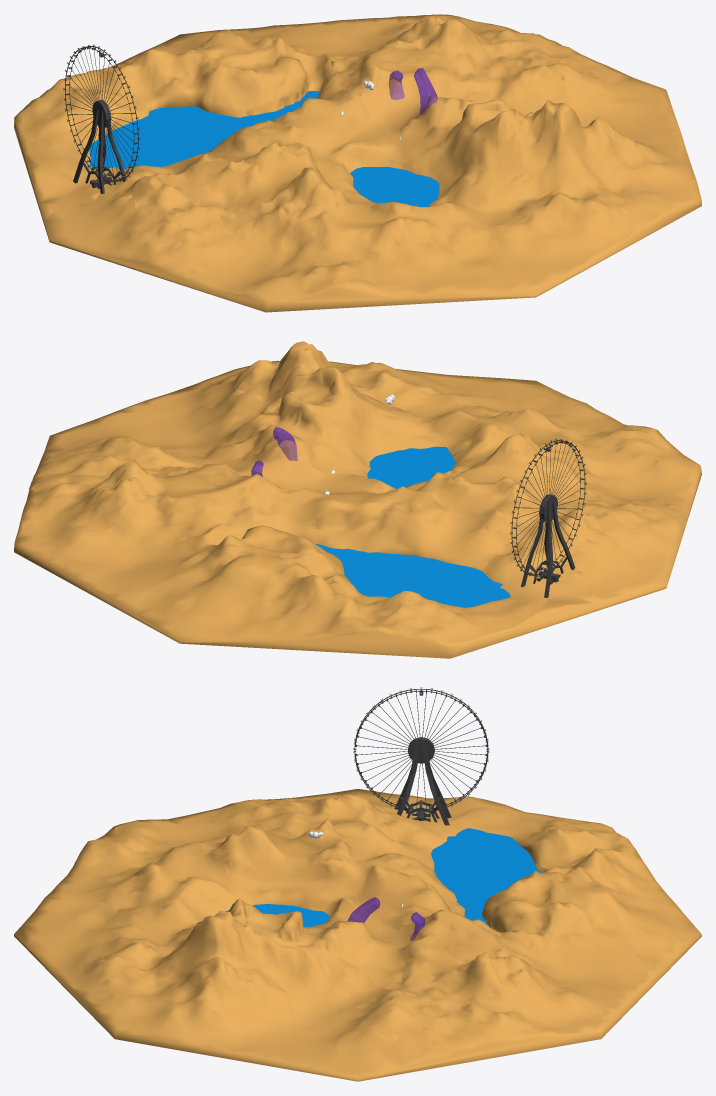
Rendered from lobby_deleted18.glb.
The picture shows the model from 3 angles, top to bottom: view 1: azimuth 30°, elevation 25°; view 2: azimuth 150°, elevation 25°; view 3: azimuth 270°, elevation 25°; orthographic projection. The views are drawn at different scales.
Visible parts, largest first — view 1: Landscape, ocean 01, wheel, ocean 02, Object_184.001, Object_20.001; view 2: Landscape, ocean 01, wheel, ocean 02, Object_184.001, Object_20.001; view 3: Landscape, ocean 01, wheel, Object_184.001, ocean 02, Object_20.001.
Boxes of the visible parts, x1,y1,x2,y2 form: Landscape: (14, 14, 701, 312); ocean 01: (89, 91, 319, 169); wheel: (63, 44, 139, 183); ocean 02: (350, 166, 439, 206); Object_184.001: (73, 103, 126, 193); Object_20.001: (389, 68, 437, 115); Landscape: (14, 341, 701, 658); ocean 01: (315, 543, 510, 607); wheel: (510, 439, 586, 577); ocean 02: (367, 446, 456, 488); Object_184.001: (521, 497, 575, 597); Object_20.001: (251, 427, 297, 476); Landscape: (14, 789, 701, 1081); ocean 01: (431, 828, 543, 926); wheel: (353, 687, 489, 813); Object_184.001: (394, 742, 451, 825); ocean 02: (225, 904, 329, 926); Object_20.001: (347, 897, 425, 940).
Size of the model in its own units: 490 by 143 by 490.
